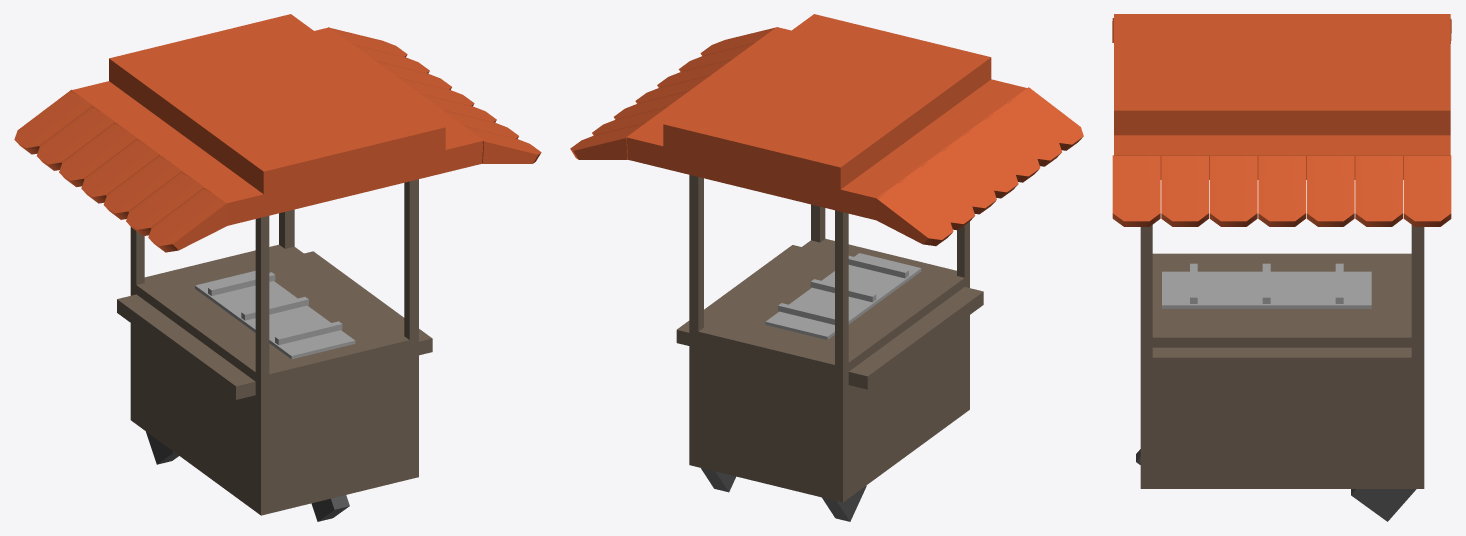
The model's file is CARRITO_CHUNGO.fbx.
The picture shows the model from 3 angles, left to right: view 1: azimuth 30°, elevation 25°; view 2: azimuth 150°, elevation 25°; view 3: azimuth 270°, elevation 25°; orthographic projection. The views are drawn at different scales.
Visible parts, largest first — view 1: pCube79, pCube74, pCube75, pCube78, pCube81; view 2: pCube79, pCube74, pCube75, pCube80, pCube78; view 3: pCube79, pCube74, pCube75, pCube82.
Part boxes in pixels (left/top/right/bottom): pCube79: left=14, top=14, right=541, bottom=252; pCube74: left=117, top=179, right=432, bottom=515; pCube75: left=195, top=270, right=355, bottom=359; pCube78: left=275, top=321, right=342, bottom=344; pCube81: left=311, top=495, right=349, bottom=521; pCube79: left=570, top=14, right=1083, bottom=246; pCube74: left=676, top=175, right=983, bottom=502; pCube75: left=765, top=253, right=921, bottom=339; pCube80: left=822, top=485, right=866, bottom=521; pCube78: left=848, top=255, right=908, bottom=278; pCube79: left=1112, top=14, right=1451, bottom=226; pCube74: left=1140, top=225, right=1424, bottom=488; pCube75: left=1162, top=271, right=1371, bottom=308; pCube82: left=1351, top=489, right=1416, bottom=521.
Bounding box in the file's own units: 28.33 × 27.62 × 20.05.
